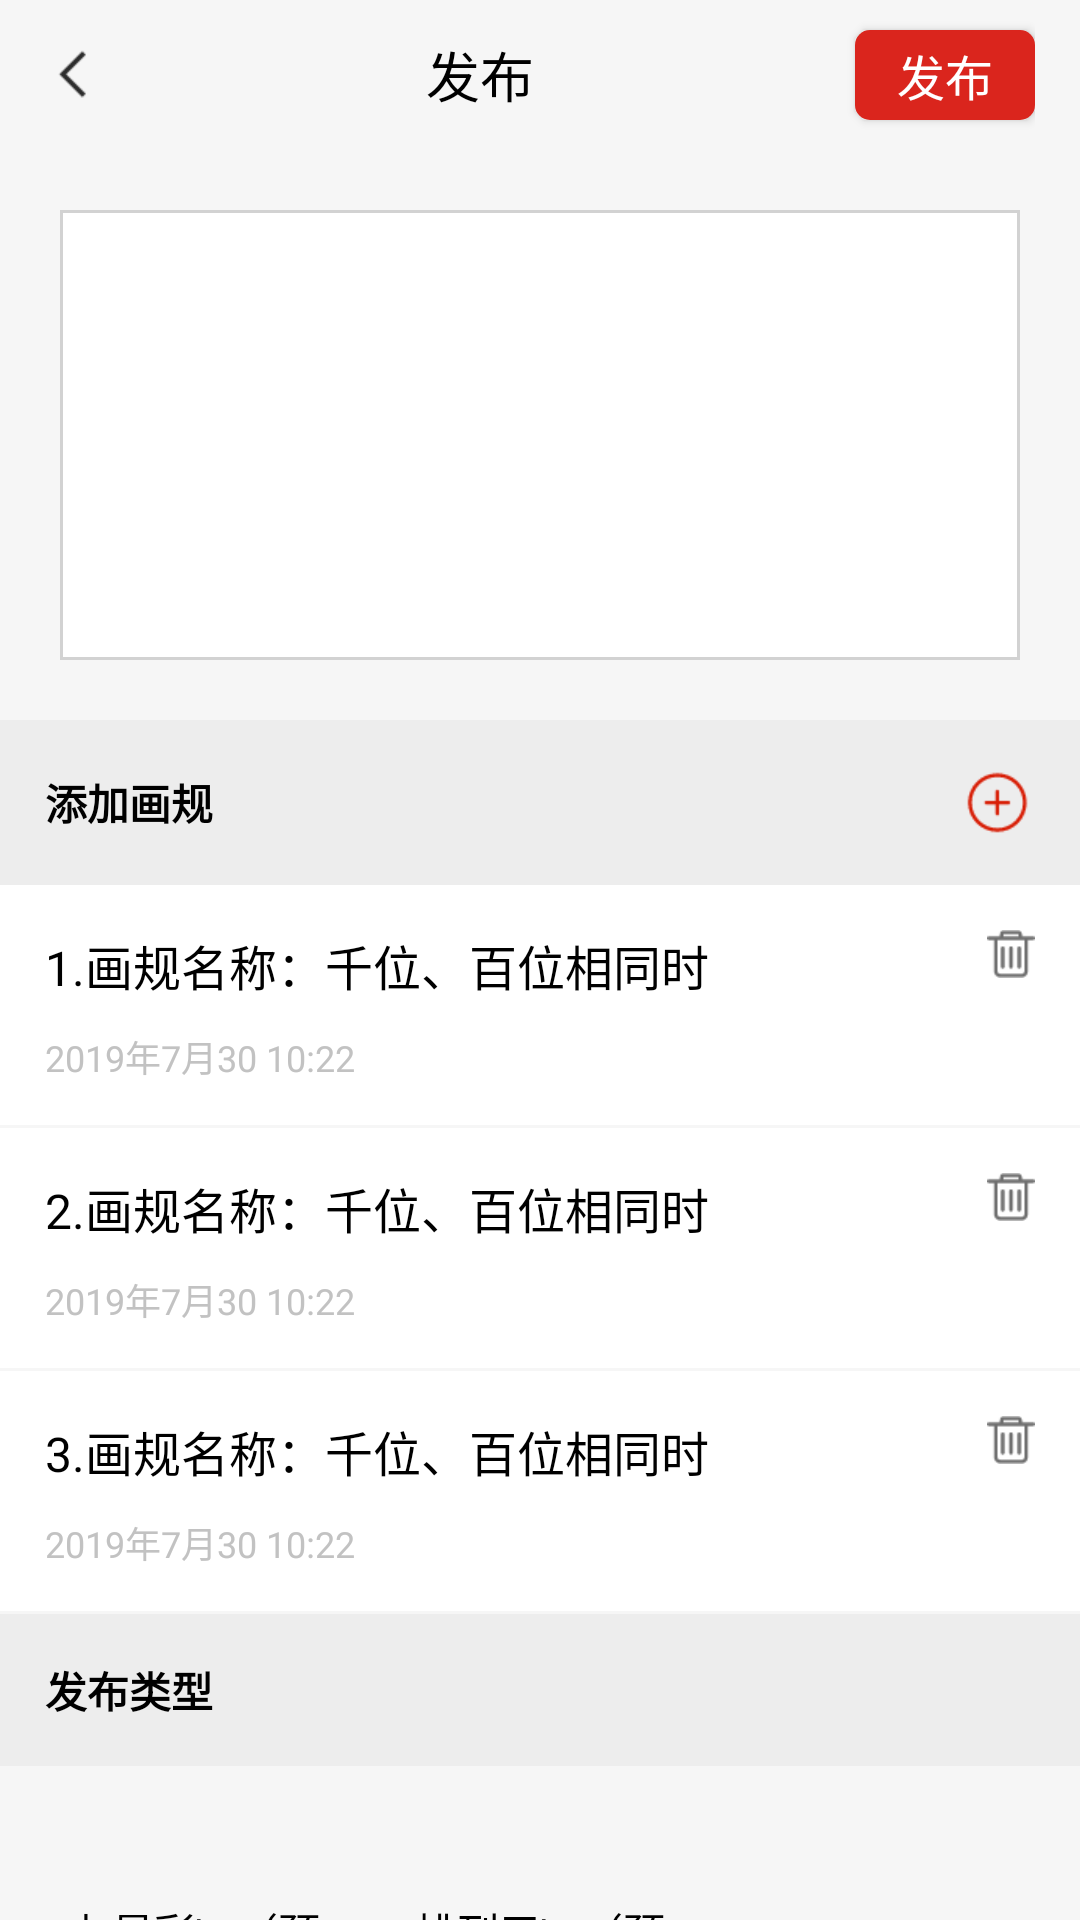

Icons on this 1080 x 1920 Android screen, each with the point to tap as point (x, y):
rune add: point (997, 802)
rune del: point (1011, 954), point (1011, 1197), point (1011, 1440)
